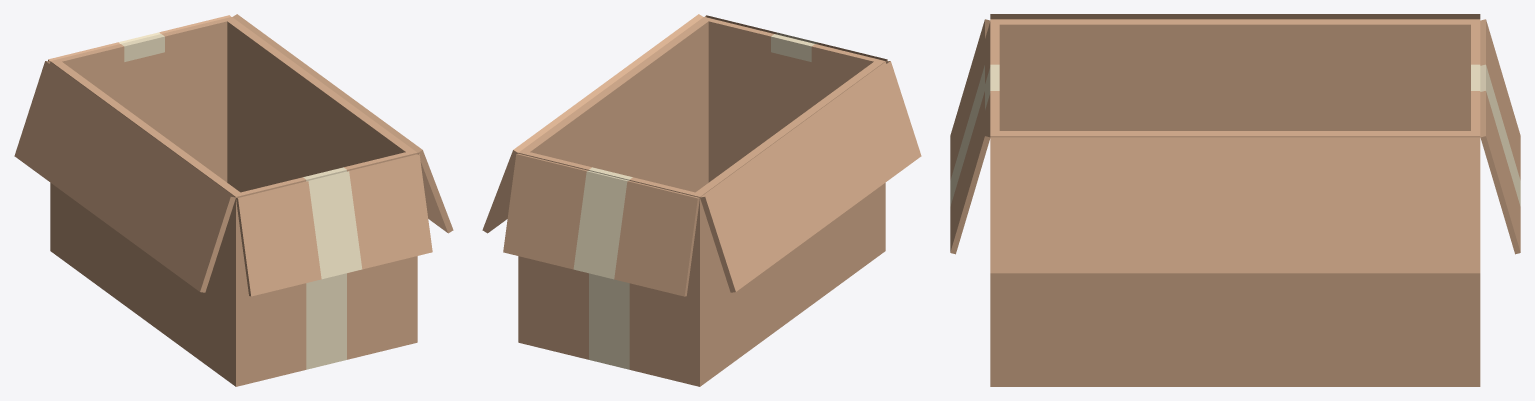
Rendered from box open.fbx.
3 views of the same model, side by side, from view 1: azimuth 30°, elevation 25°; view 2: azimuth 150°, elevation 25°; view 3: azimuth 270°, elevation 25° (orthographic). The views are drawn at different scales.
Parts seen in each view (by area): view 1: opened box; view 2: opened box; view 3: opened box.
Boxes of the visible parts, box(x1,y1,x2,y2) form: opened box: box(14, 14, 453, 386); opened box: box(482, 14, 921, 386); opened box: box(950, 14, 1520, 386).
Size of the model in its own units: 158 by 114 by 233.
